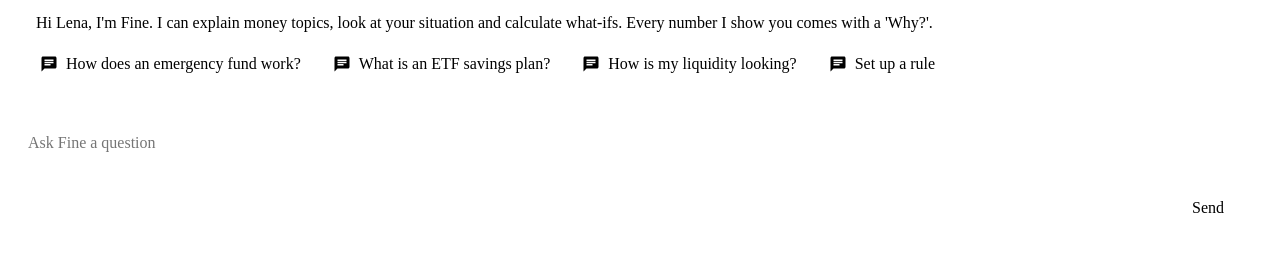
Test: ChatColumnComponent › puts the text back when the question cannot be saved
Type "What is an ETF?" into the text box with placeholder "Ask Fine a question" at (632, 152), box [16,124,1248,180]
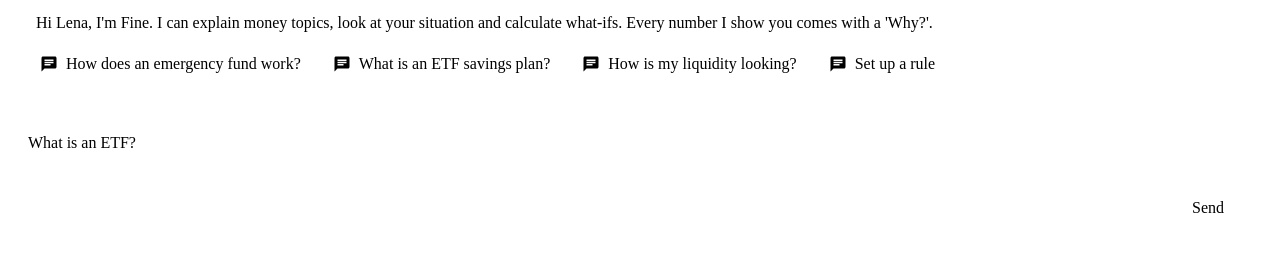
Press Enter in the text box, box [16,124,1248,180]
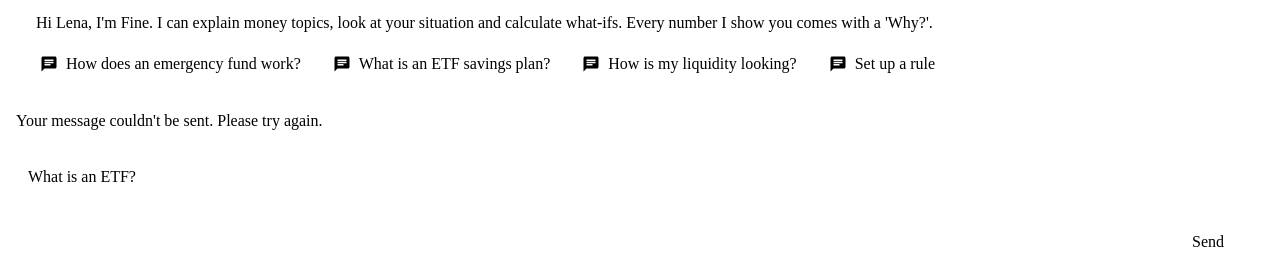
Now the message with class "send-failed" reads "Your message couldn't be sent. Please try again.", box [16,112,322,129]
